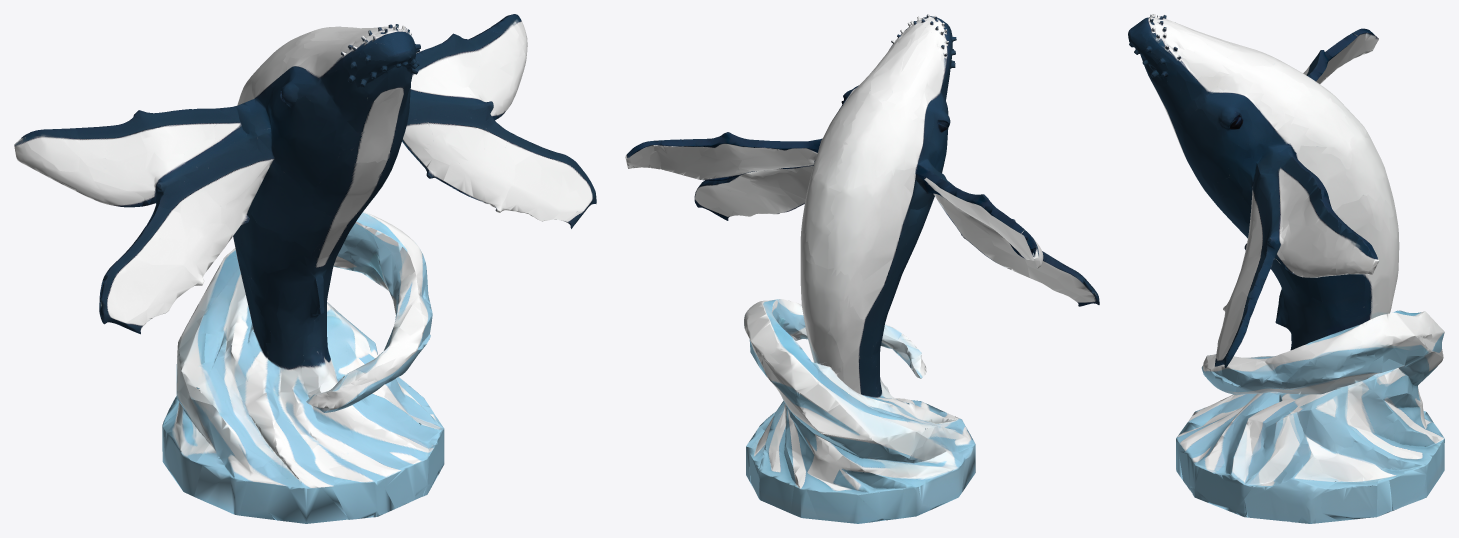
The model's file is arctic-whale.glb.
3 views of the same model, side by side, from view 1: azimuth 30°, elevation 25°; view 2: azimuth 150°, elevation 25°; view 3: azimuth 270°, elevation 25° (orthographic). The views are drawn at different scales.
Size of the model in its own units: 1.9 by 1.78 by 1.13.
1 material, 1 textured.
